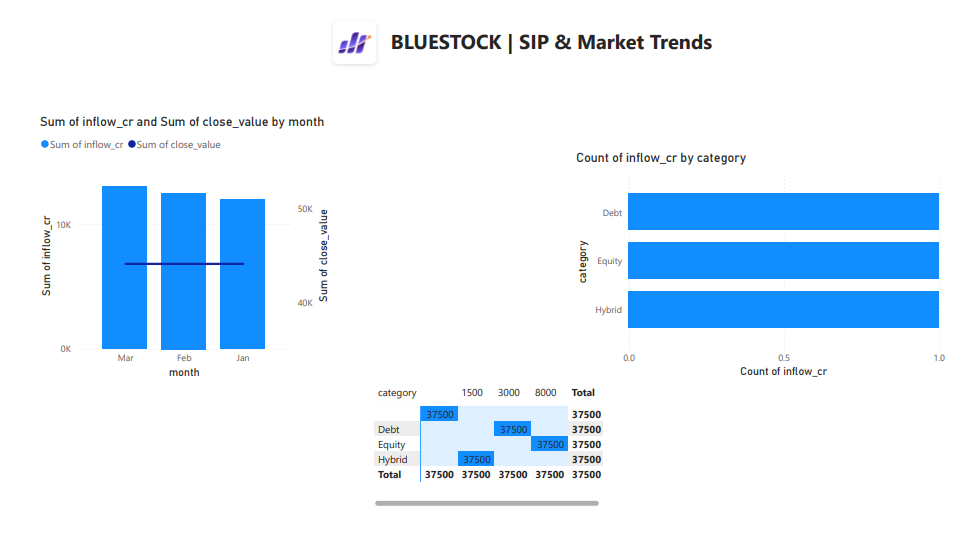

This screenshot's page, from the dashboard's own definition file:
{"tool":"powerbi","page":{"name":"SIP & Market Trends ","canvas":[1280,720],"ordinal":3},"visuals":[{"type":"lineClusteredColumnComboChart","fields":{"Category":["04_monthly_sip_inflows_clean.month"],"Y":["Sum(04_monthly_sip_inflows_clean.inflow_cr)"],"Y2":["Sum(10_benchmark_indices_clean.close_value)"]},"box":[38.3,143.3,393.3,355],"z":0},{"type":"pivotTable","fields":{"Rows":["05_category_inflows_clean.category"],"Columns":["05_category_inflows_clean.inflow_cr"],"Values":["Sum(04_monthly_sip_inflows_clean.inflow_cr)"]},"box":[483.3,498.3,313.3,171.7],"z":1000},{"type":"clusteredBarChart","fields":{"Category":["05_category_inflows_clean.category"],"Y":["CountNonNull(05_category_inflows_clean.inflow_cr)"]},"box":[751.7,190,501.7,308.3],"z":2000},{"type":"image","box":[420,0,85,93.3],"z":3000},{"type":"textbox","box":[505,21.7,441.7,93.3],"z":4000}]}

Visuals, with their boxes in screenshot pixels (x1, y1, x2, y2), scaled from the page's 1280x720 canvas onto the 972x552 screenshot:
lineClusteredColumnComboChart - 04_monthly_sip_inflows_clean.month x Sum(04_monthly_sip_inflows_clean.inflow_cr): {"left": 29, "top": 110, "right": 328, "bottom": 382}
pivotTable - 05_category_inflows_clean.category x 05_category_inflows_clean.inflow_cr: {"left": 367, "top": 382, "right": 605, "bottom": 514}
clusteredBarChart - 05_category_inflows_clean.category x CountNonNull(05_category_inflows_clean.inflow_cr): {"left": 571, "top": 146, "right": 952, "bottom": 382}
image: {"left": 319, "top": 0, "right": 383, "bottom": 72}
textbox: {"left": 383, "top": 17, "right": 719, "bottom": 88}
